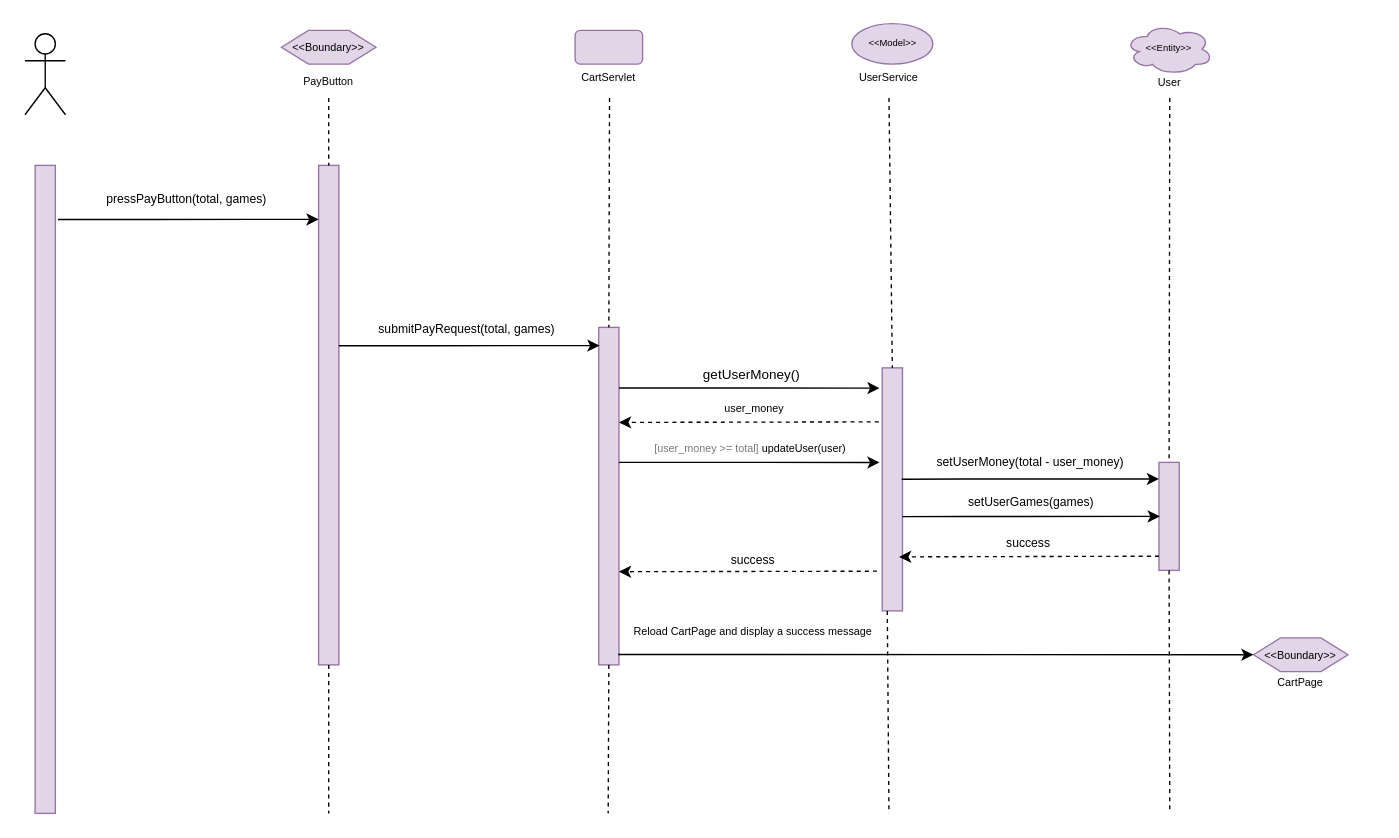
This 1399x838 diagram has some shape labels left out. Each missing label, with the box of its shape:
<<Control>>: (574, 29, 643, 64)
Lucas: (24, 32, 65, 115)
